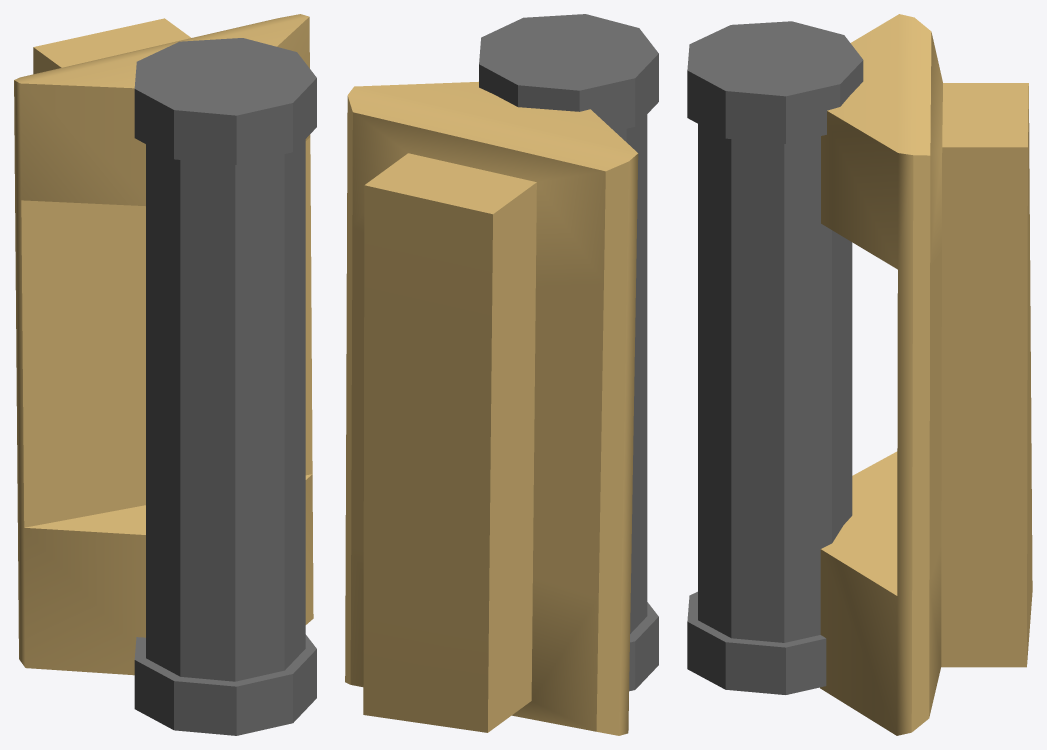
The model's file is IdentityKey.fbx.
3 views of the same model, side by side, from view 1: azimuth 30°, elevation 25°; view 2: azimuth 150°, elevation 25°; view 3: azimuth 270°, elevation 25° (orthographic). The views are drawn at different scales.
Parts seen in each view (by area): view 1: pCylinder1, Key; view 2: Key, pCylinder1; view 3: Key, pCylinder1.
Part boxes in pixels (x1=…): pCylinder1: x1=134, y1=38, x2=316, y2=735; Key: x1=14, y1=14, x2=313, y2=675; Key: x1=345, y1=81, x2=638, y2=735; pCylinder1: x1=479, y1=14, x2=658, y2=691; Key: x1=820, y1=14, x2=1032, y2=735; pCylinder1: x1=687, y1=21, x2=863, y2=694.
Size of the model in its own units: 3 by 6.16 by 3.19.
